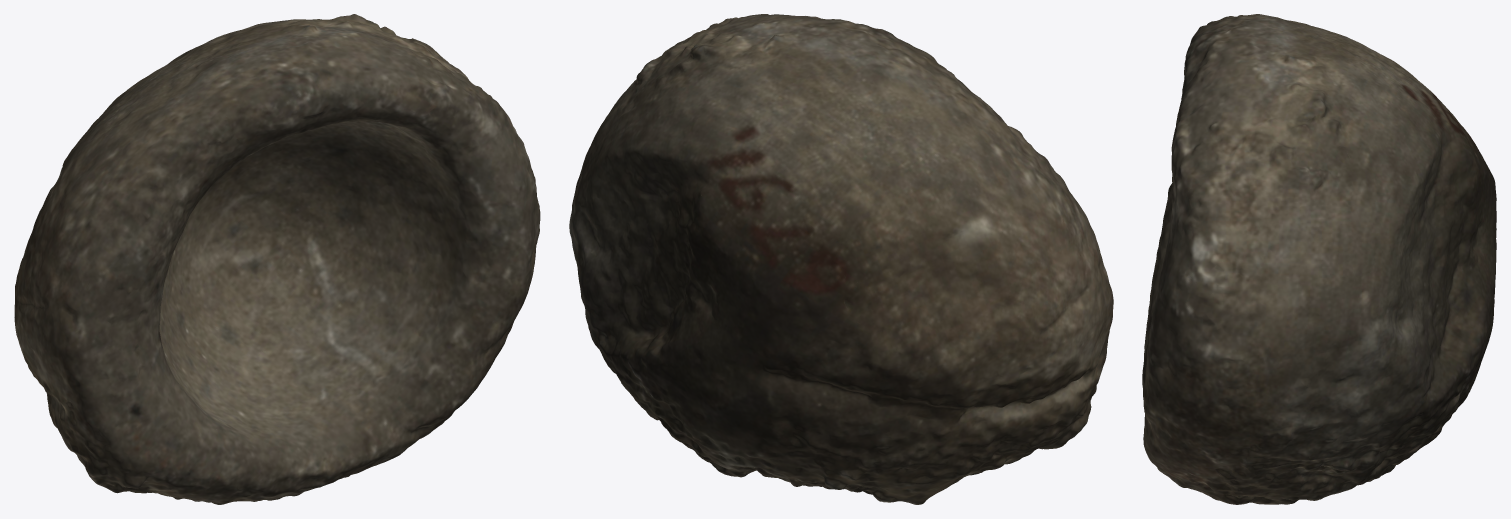
3 views of the same model, side by side, from view 1: azimuth 30°, elevation 25°; view 2: azimuth 150°, elevation 25°; view 3: azimuth 270°, elevation 25° (orthographic). The views are drawn at different scales.
Parts seen in each view (by area): view 1: Node; view 2: Node; view 3: Node.
Part boxes in pixels (x1,y1,x2,y2): Node: (14,14,540,504); Node: (569,14,1113,504); Node: (1142,14,1496,504).
Bounding box in the file's own units: 44.45 × 37.76 × 27.5.
1 material, 1 textured.
